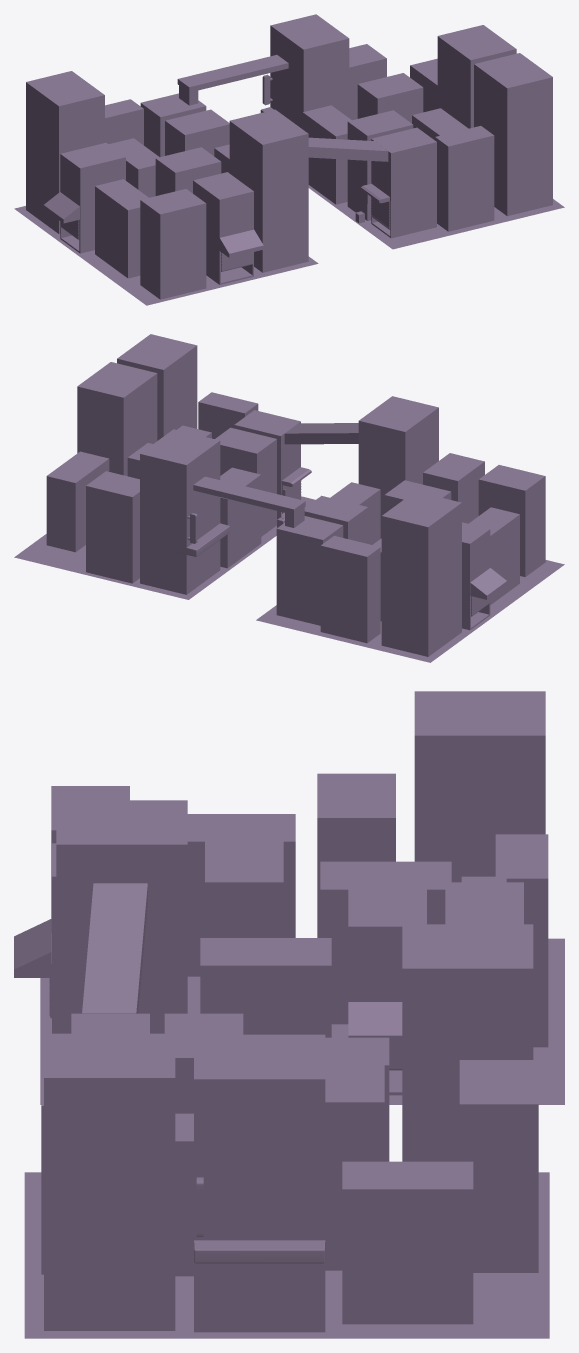
The model's file is slums_overpass_cross.fbx.
3 renders of one model, top to bottom at view 1: azimuth 30°, elevation 25°; view 2: azimuth 150°, elevation 25°; view 3: azimuth 270°, elevation 25°, orthographic. The views are drawn at different scales.
Visible parts, largest first — view 1: slums_2mod3_small_building3; view 2: slums_2mod3_small_building3; view 3: slums_2mod3_small_building3.
Part boxes in pixels (<box>): slums_2mod3_small_building3: <box>14,14,564,305</box>; slums_2mod3_small_building3: <box>14,334,564,662</box>; slums_2mod3_small_building3: <box>14,691,564,1338</box>.
Bounding box in the file's own units: 75.2 × 21.39 × 42.
